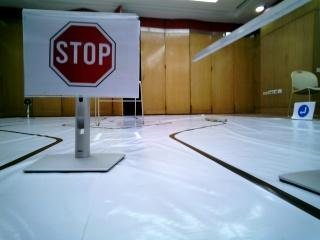stop: (28, 10, 139, 98)
